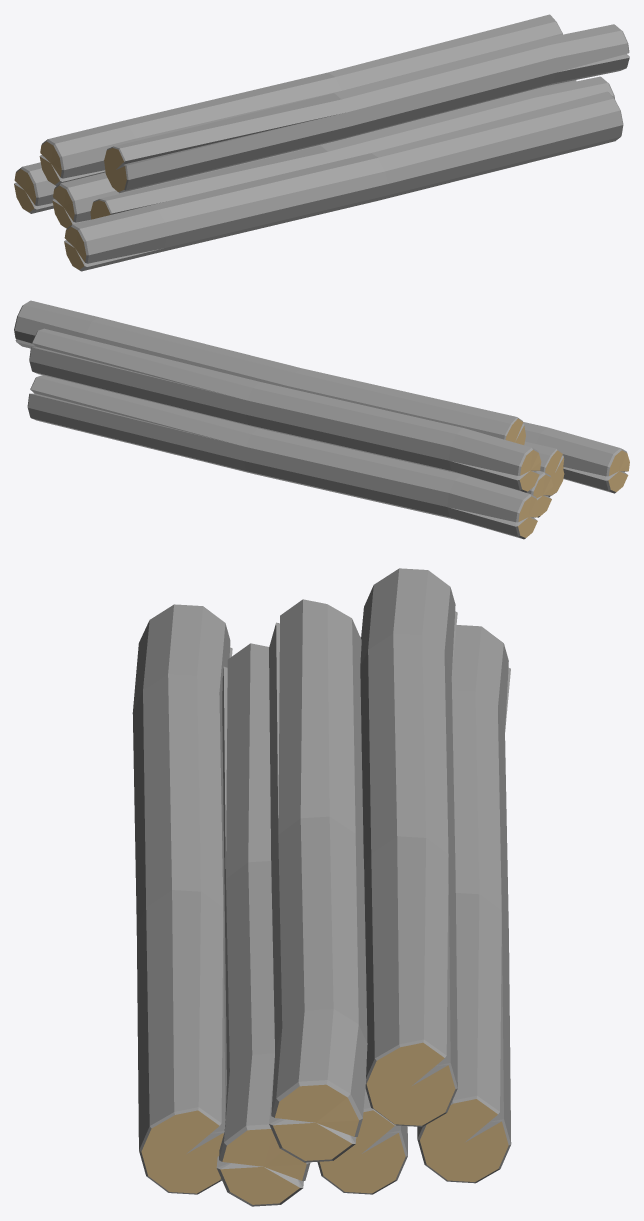
The model's file is PT_Log_07.fbx.
3 renders of one model, top to bottom at view 1: azimuth 30°, elevation 25°; view 2: azimuth 150°, elevation 25°; view 3: azimuth 270°, elevation 25°, orthographic. The views are drawn at different scales.
Visible parts, largest first — view 1: PT_Log_07; view 2: PT_Log_07; view 3: PT_Log_07.
Part boxes in pixels (x1,y1,x2,y2): PT_Log_07: [14, 14, 629, 271]; PT_Log_07: [14, 300, 629, 539]; PT_Log_07: [132, 568, 511, 1206].
Bounding box in the file's own units: 446 × 60.49 × 130.
1 material, 1 textured.
